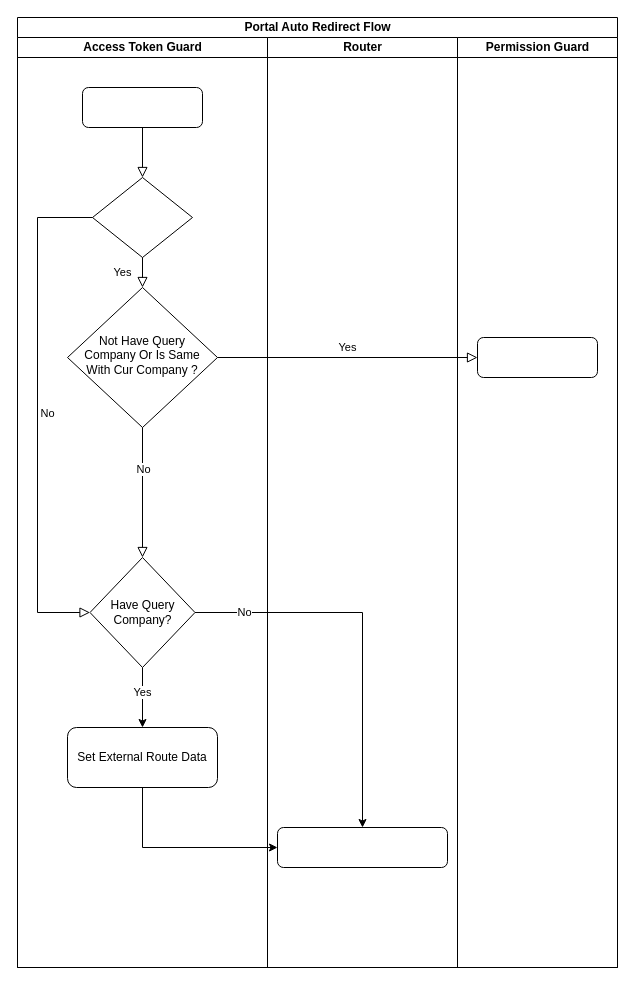
This 635x985 diagram has some shape labels left out. The centre of each missing label's shape, as x and y in pixels:
Check is have permission: the point at 537,357
Go To My Companies Page: the point at 362,847
Have AccessToken?: the point at 142,217
Start: the point at 142,107
